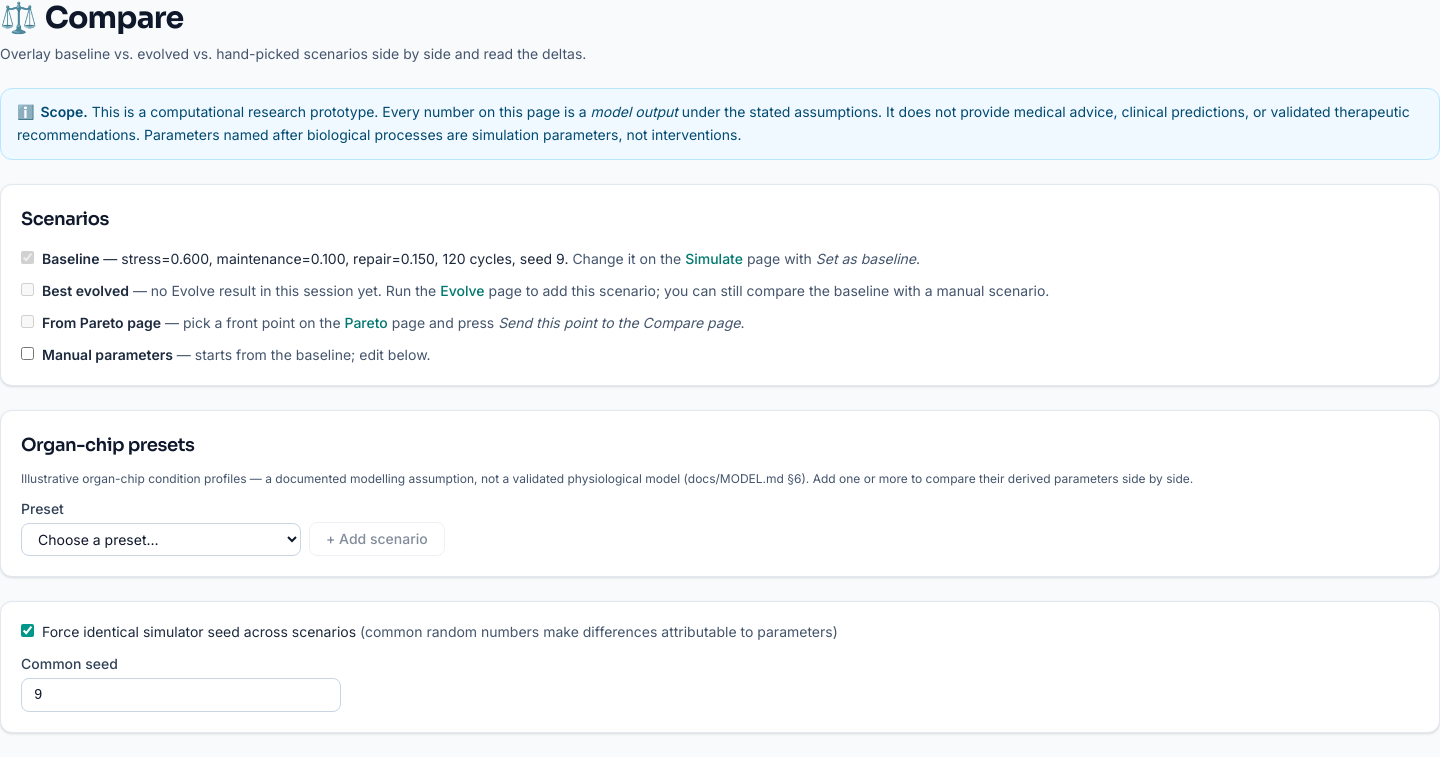
Test: Compare page › adds an organ-chip preset scenario with the {name, chip} payload shape and shows its derived readout
The image size is (1440, 757).
Check: the text "no Evolve result in this session yet" is shown, box [133,282,436,298]
Select "Liver-chip-like (low flow, physioxia)" in the dropdown labelled "Preset" at (161, 539), box [21,522,301,556]
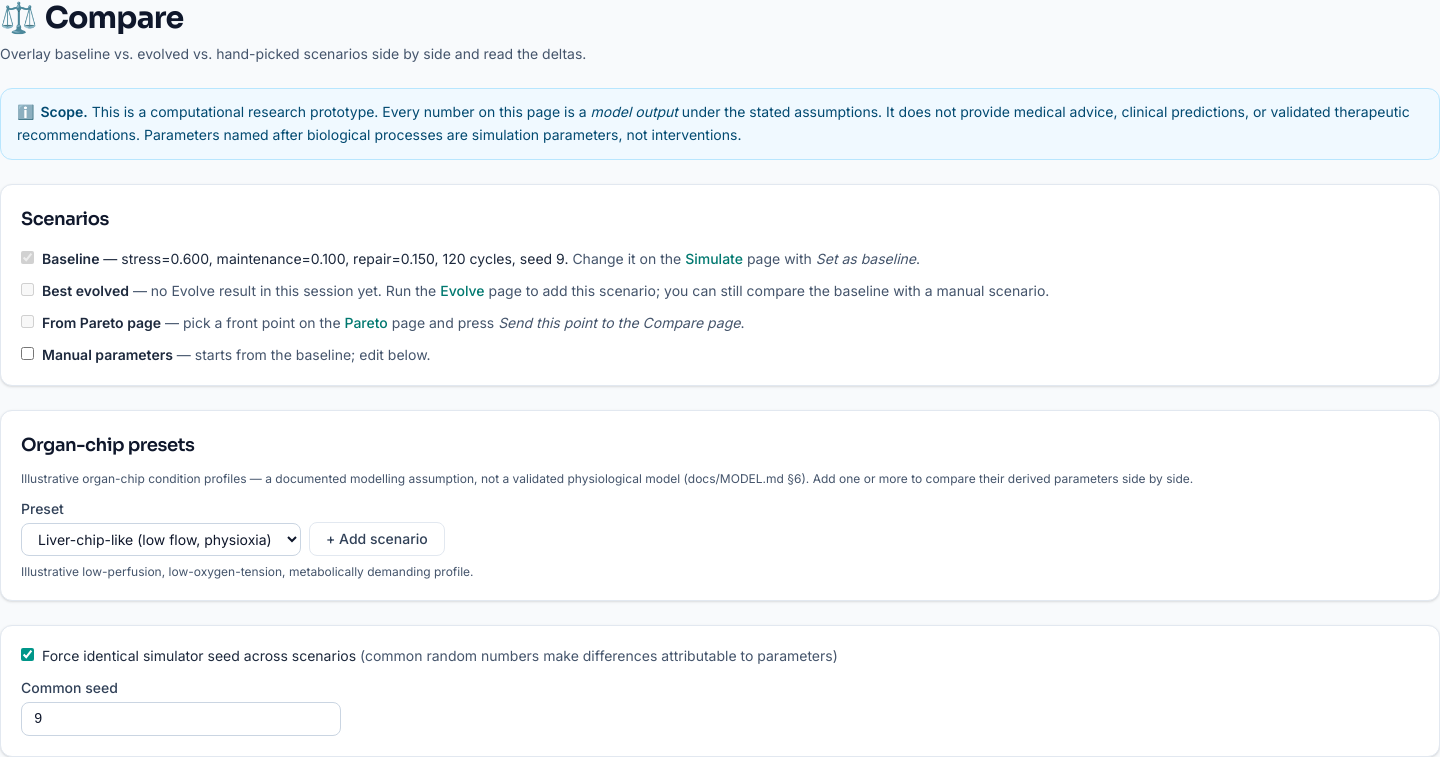
Check: the text "low-perfusion, low-oxygen-tension" is shown, box [21,564,474,578]
Click the button "+ Add scenario" at (377, 538), box [309,522,445,556]
(page scrolled)
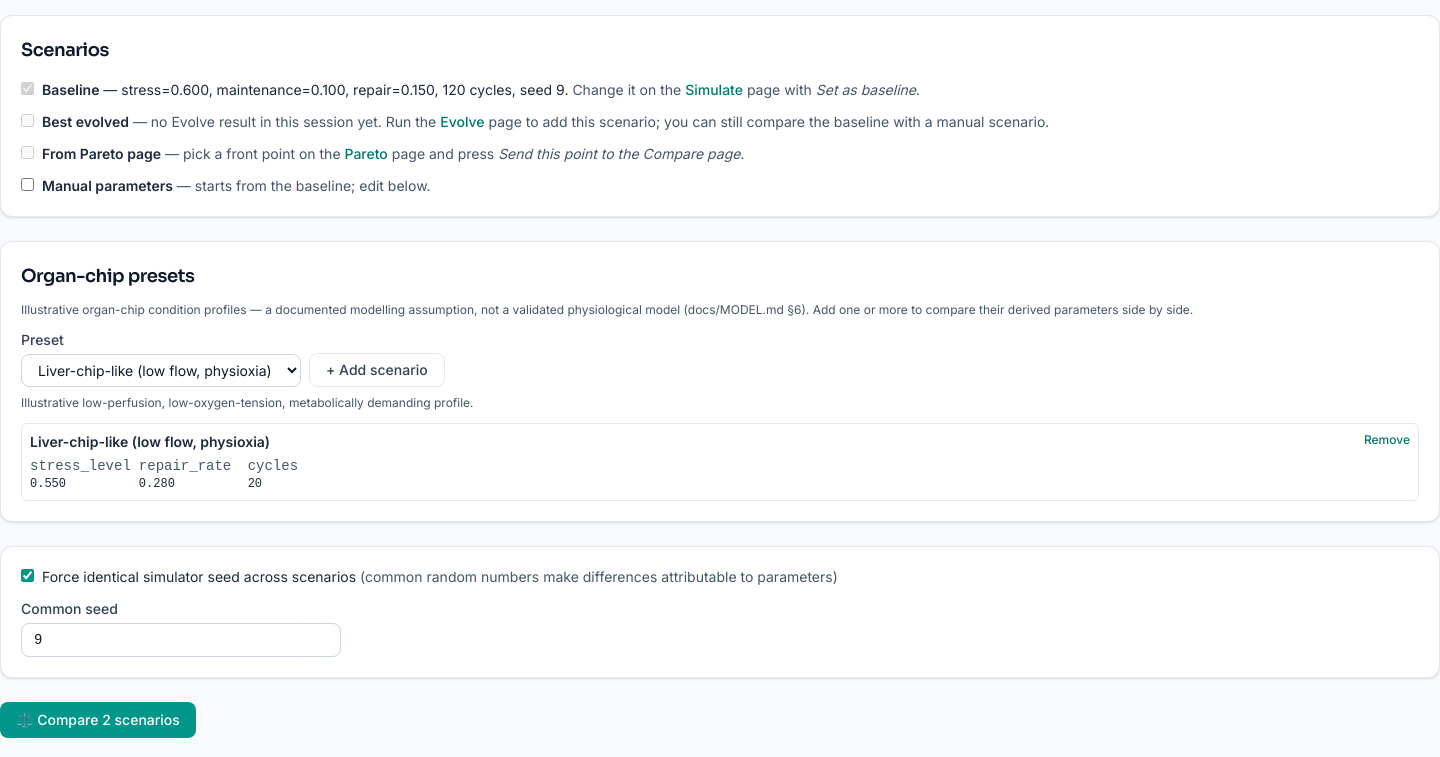
Check: the list with test id "chip-scenario-list" shows "Liver-chip-like (low flow, physioxia)", box [30,432,270,450]
Check: the list with test id "chip-scenario-list" shows "0.550", box [30,476,66,490]
Check: the button "⚖️ Compare 2 scenarios" is shown
Click the button "⚖️ Compare 2 scenarios" at (98, 720), box [0,702,196,738]
(page scrolled)
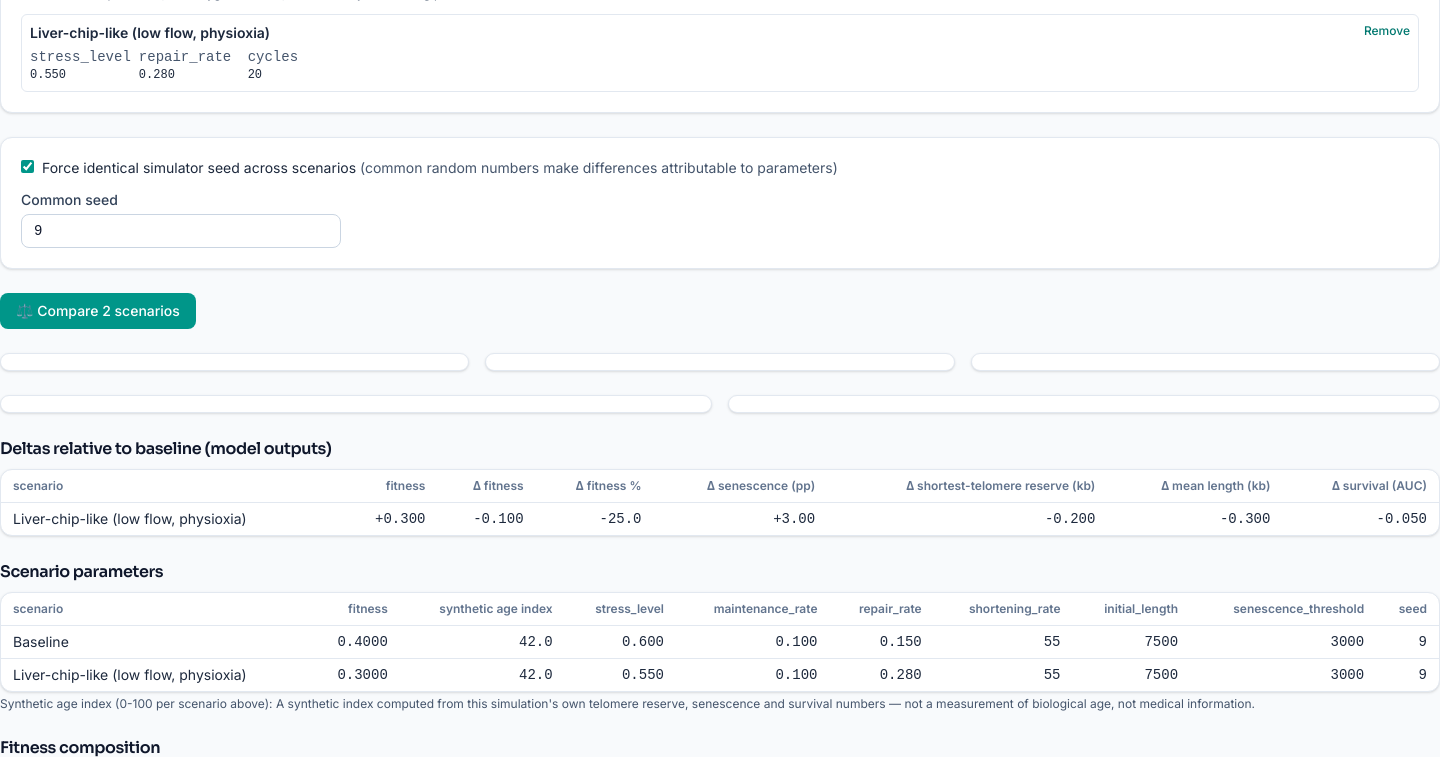
Check: the table with test id "deltas-table" is shown, box [1,470,1439,534]
